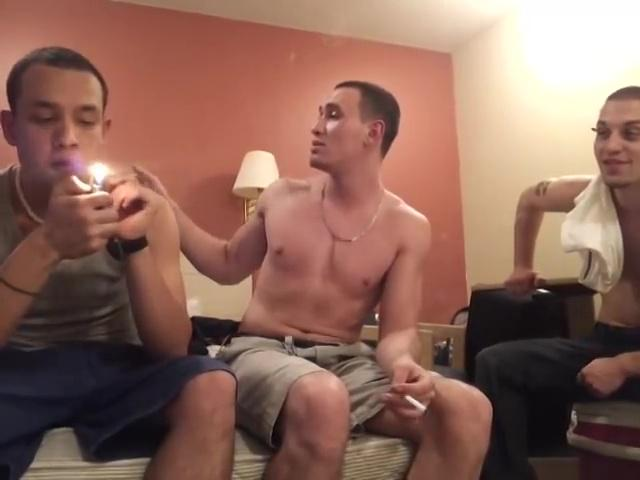cigarette: (402, 390, 432, 416)
